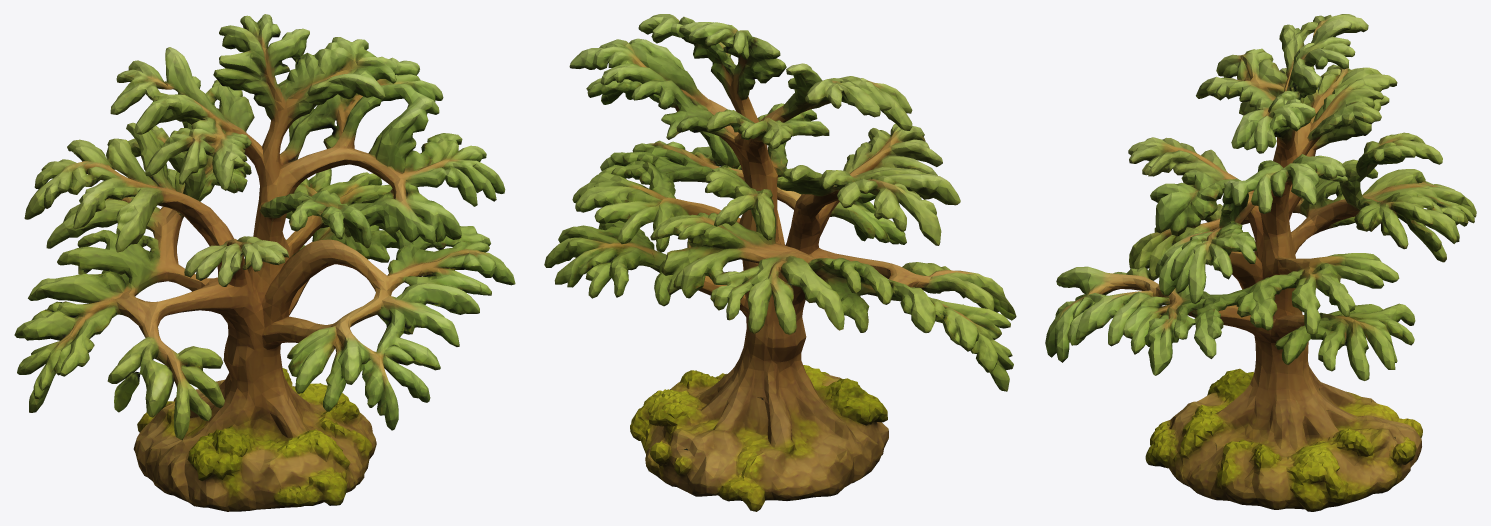
3 views of the same model, side by side, from view 1: azimuth 30°, elevation 25°; view 2: azimuth 150°, elevation 25°; view 3: azimuth 270°, elevation 25° (orthographic). The views are drawn at different scales.
Parts seen in each view (by area): view 1: world; view 2: world; view 3: world.
Part boxes in pixels (x1,y1,x2,y2): world: (14, 14, 515, 511); world: (544, 14, 1016, 511); world: (1045, 14, 1476, 511).
Size of the model in its own units: 0.9487 by 0.8912 by 0.8043.
1 material, 1 textured.
